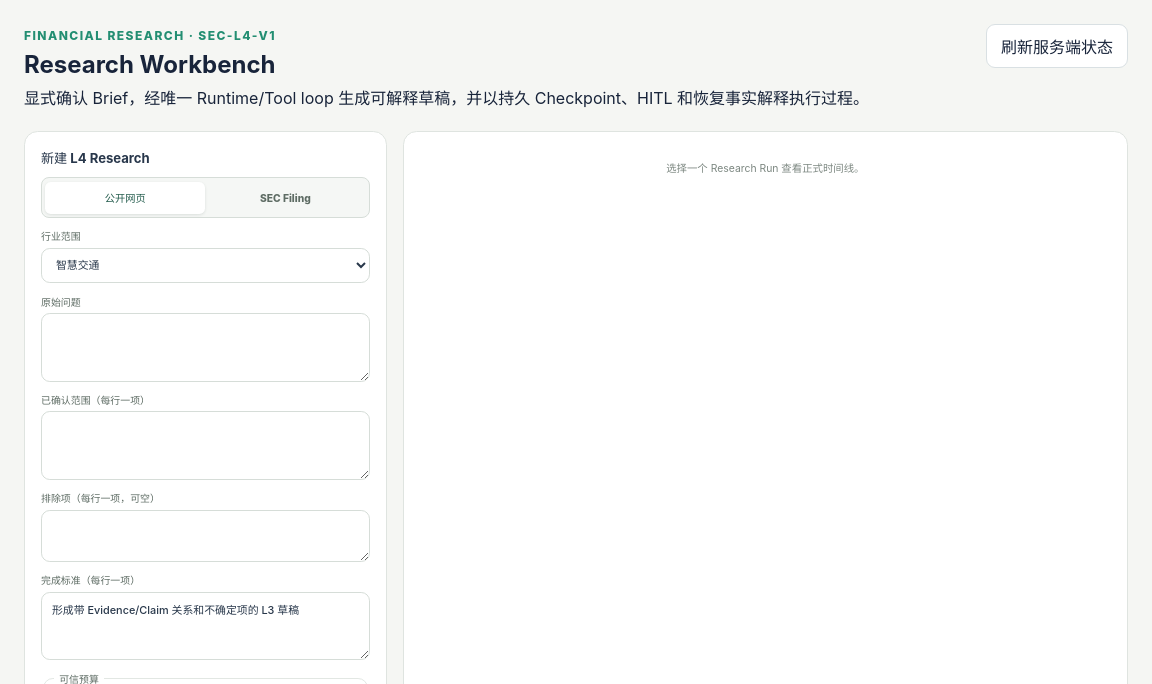
Test: ResearchWorkspace › prepares DuPont data, adopts the locked scope and clears stale readiness
This screenshot has width=1152, height=684.
Click the button "SEC Filing" at (285, 198), box x1=205 y1=182 x2=365 y2=214
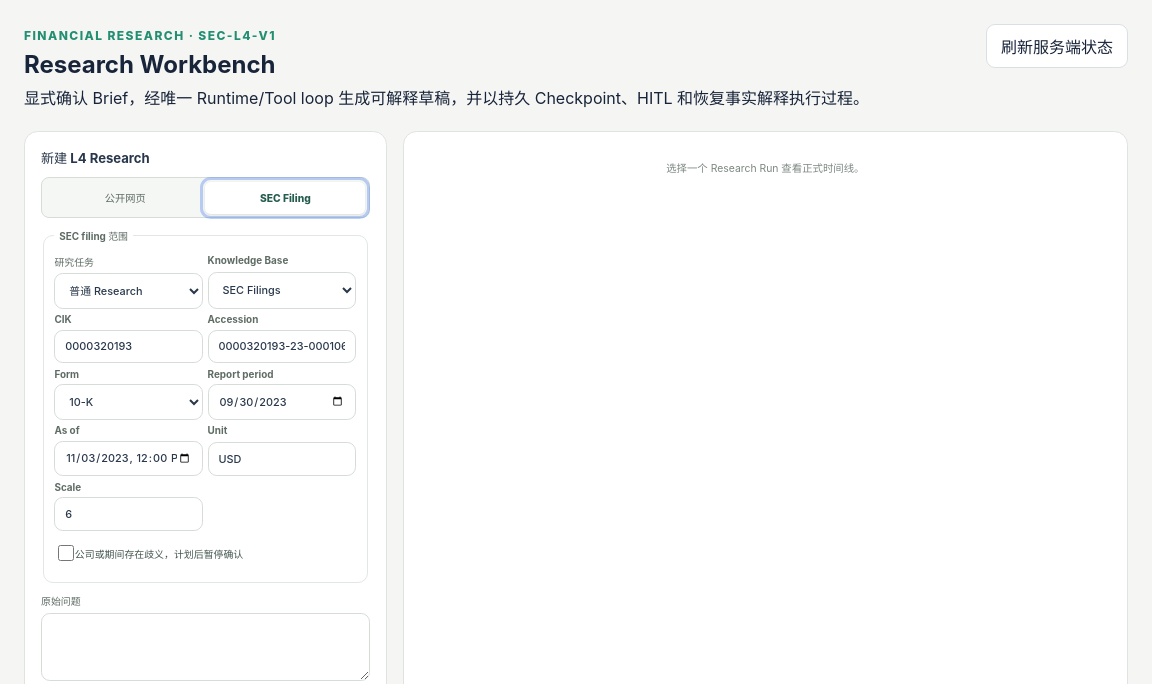
Select "多年度杜邦分析工作流" in the dropdown labelled "研究任务" at (129, 291), box x1=54 y1=273 x2=203 y2=309
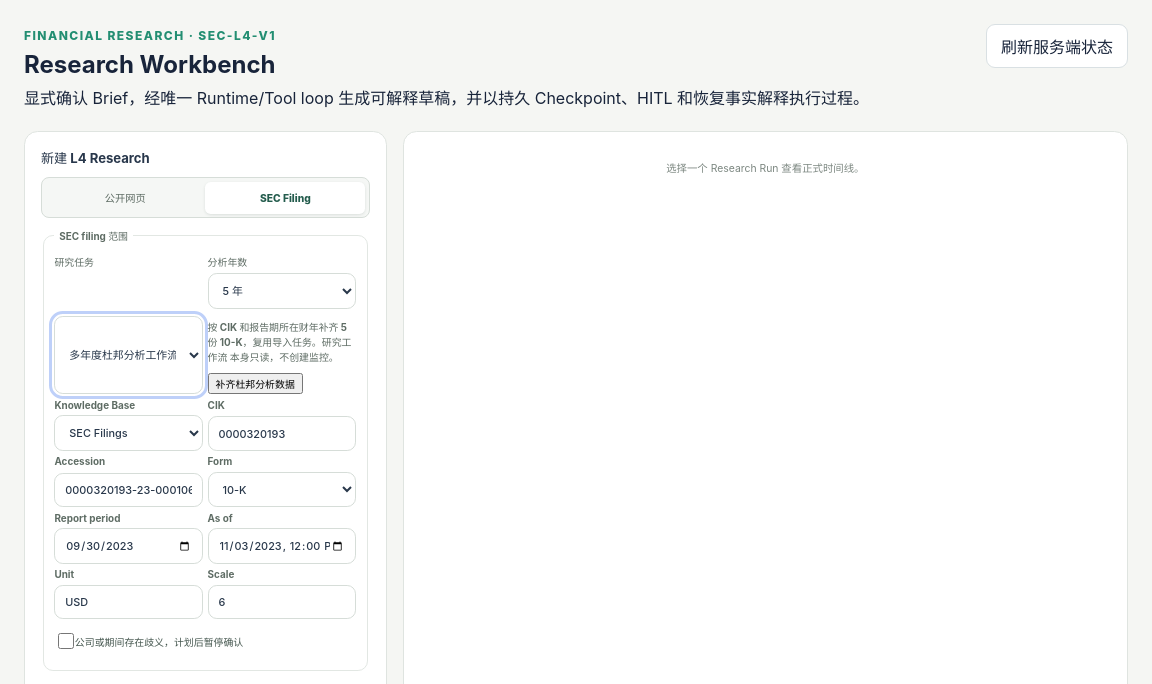
Click the button "补齐杜邦分析数据" at (255, 384), box x1=208 y1=373 x2=303 y2=394
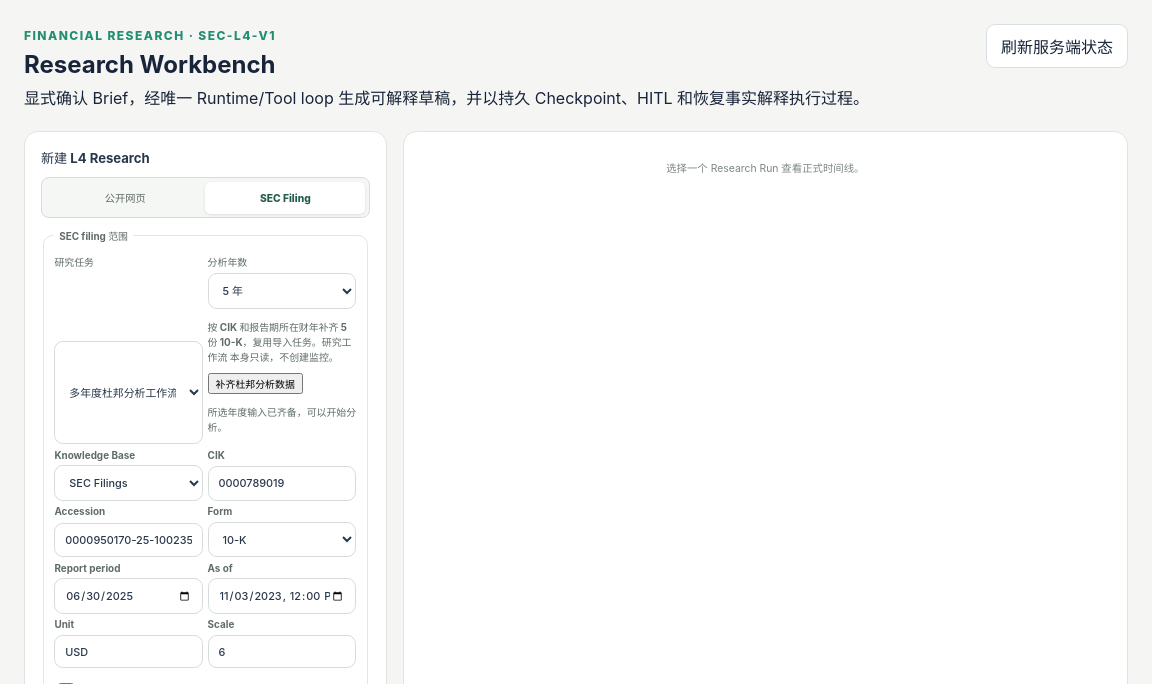
Expected: the text "所选年度输入已齐备，可以开始分析。" is shown, x1=208 y1=404 x2=356 y2=434
Expected: the field showing "0000950170-25-100235" is shown, x1=54 y1=523 x2=203 y2=557
Clear the field showing "0000789019" at (282, 484), box x1=208 y1=466 x2=356 y2=501
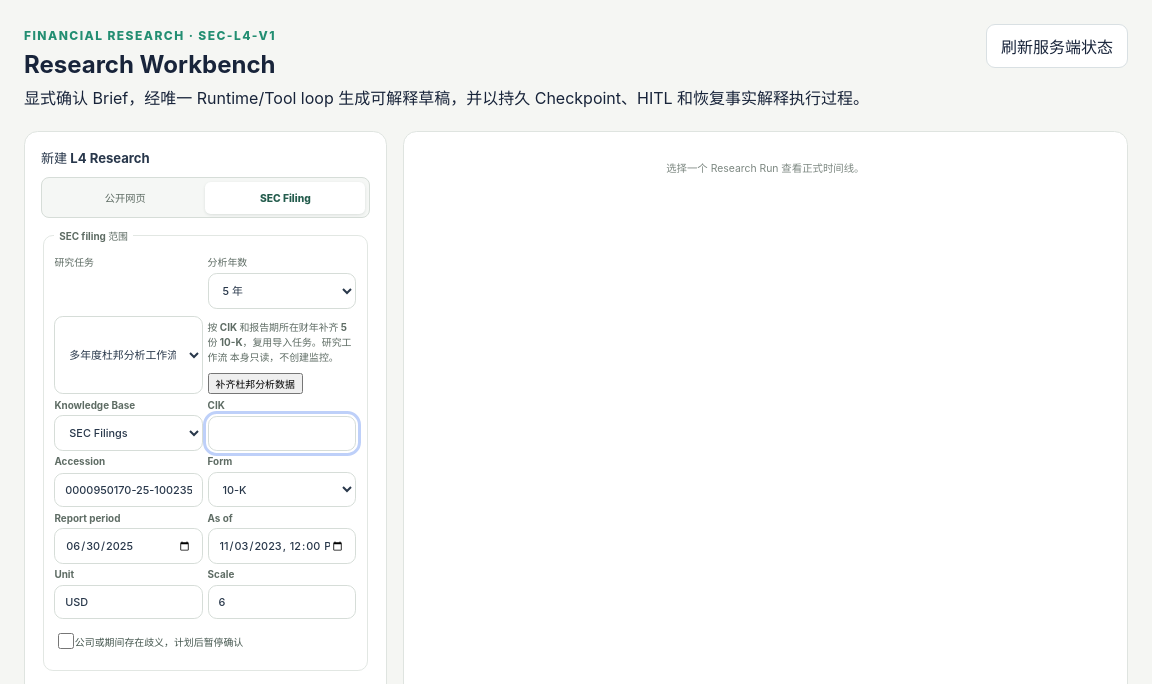
Expected: the text "所选年度输入已齐备" is gone
